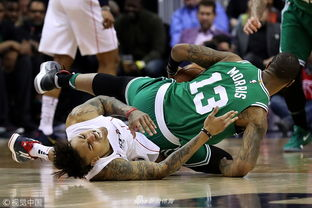10+: (5, 1, 311, 149)
down: (28, 40, 303, 178), (1, 97, 240, 181)
